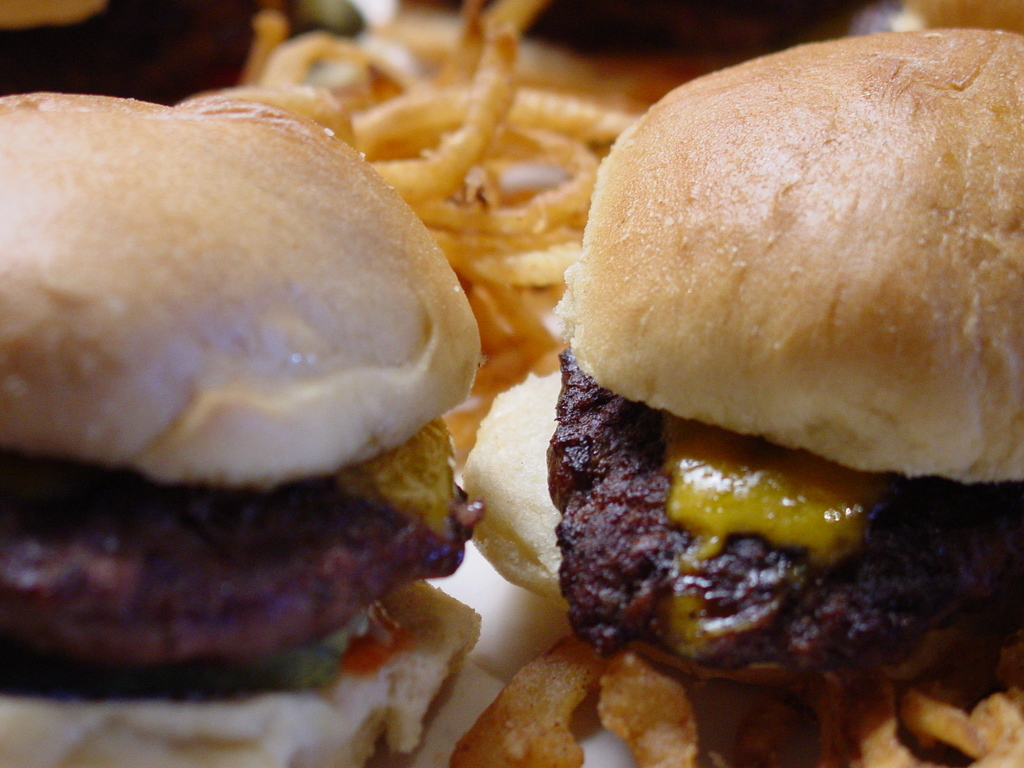Hamburger: (467, 33, 1023, 682), (0, 99, 482, 767)
